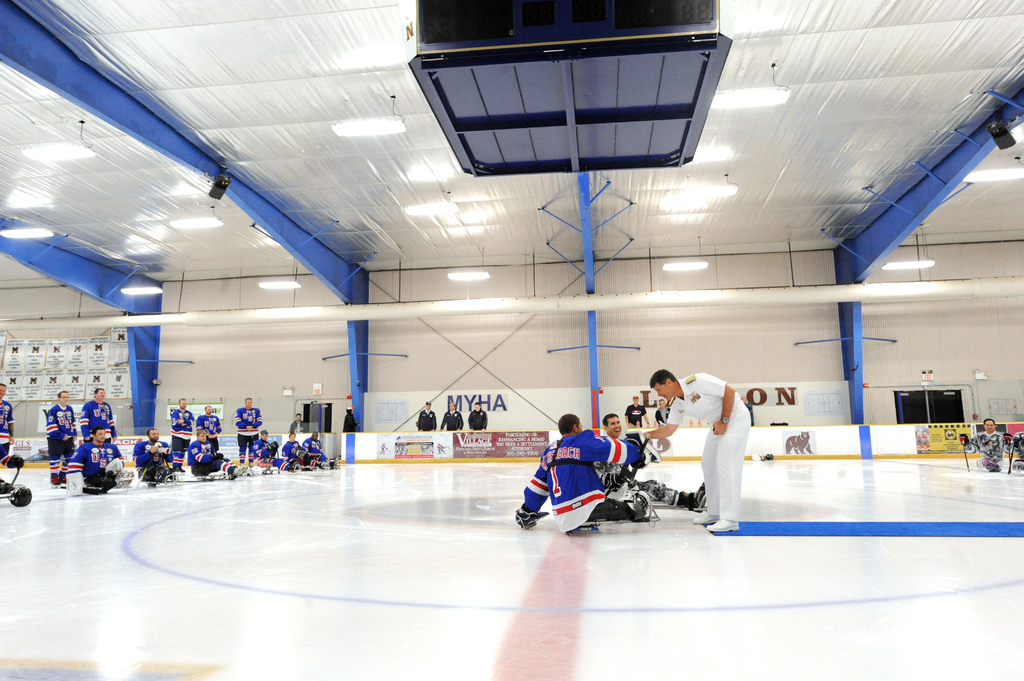Person: (641, 367, 751, 533), (515, 413, 652, 536), (593, 412, 708, 513), (65, 426, 127, 503), (43, 388, 77, 488), (185, 429, 250, 481), (131, 426, 174, 490), (966, 415, 1009, 474), (77, 388, 119, 444), (252, 427, 300, 475), (234, 397, 263, 468), (169, 398, 196, 473), (300, 426, 342, 469), (281, 434, 326, 470), (0, 442, 27, 491), (196, 404, 222, 454), (0, 382, 16, 456), (623, 393, 647, 429), (438, 402, 464, 431), (467, 402, 489, 433), (417, 399, 438, 431), (341, 405, 362, 433), (287, 409, 307, 434), (656, 398, 671, 426)
